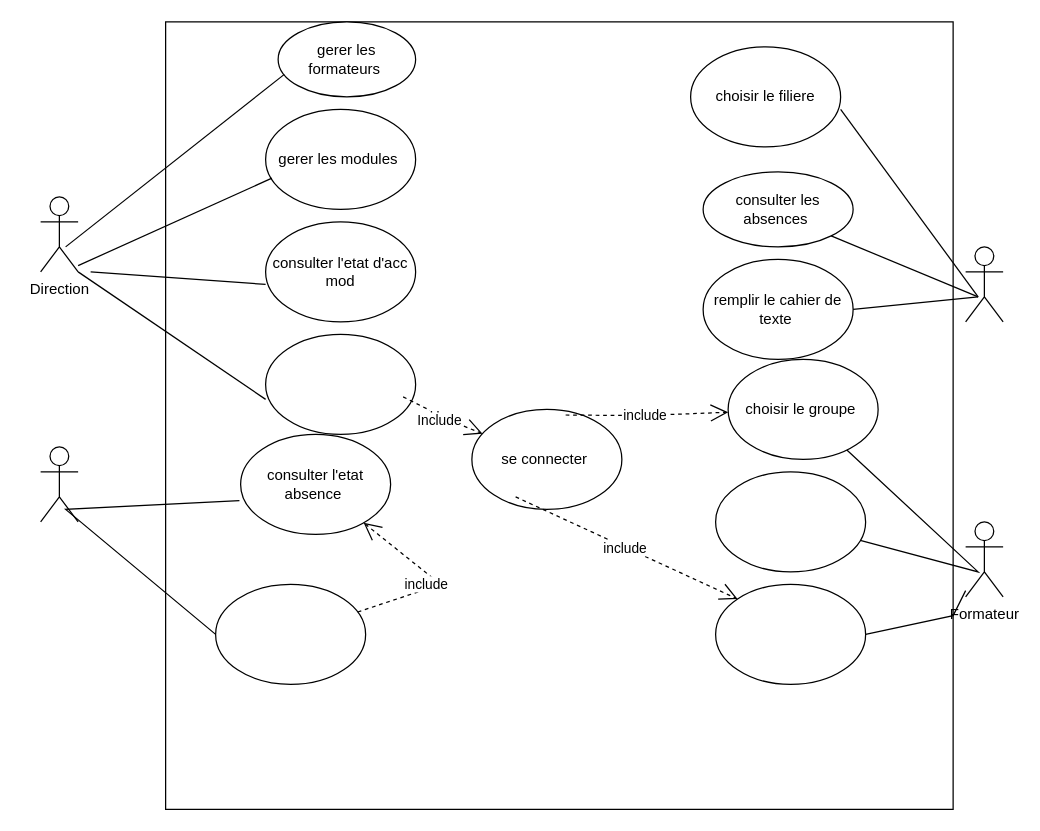
Image size: 1040x831. Some labels were removed from this diagram. Each missing label, with the centre of its shape:
Enregistrer absences: point (790, 633)
Gestion -St: point (58, 484)
importer l'information: point (290, 633)
introduire info -stagiare: point (340, 383)
remplir infos sources: point (790, 521)
Stagiaire: point (983, 284)
